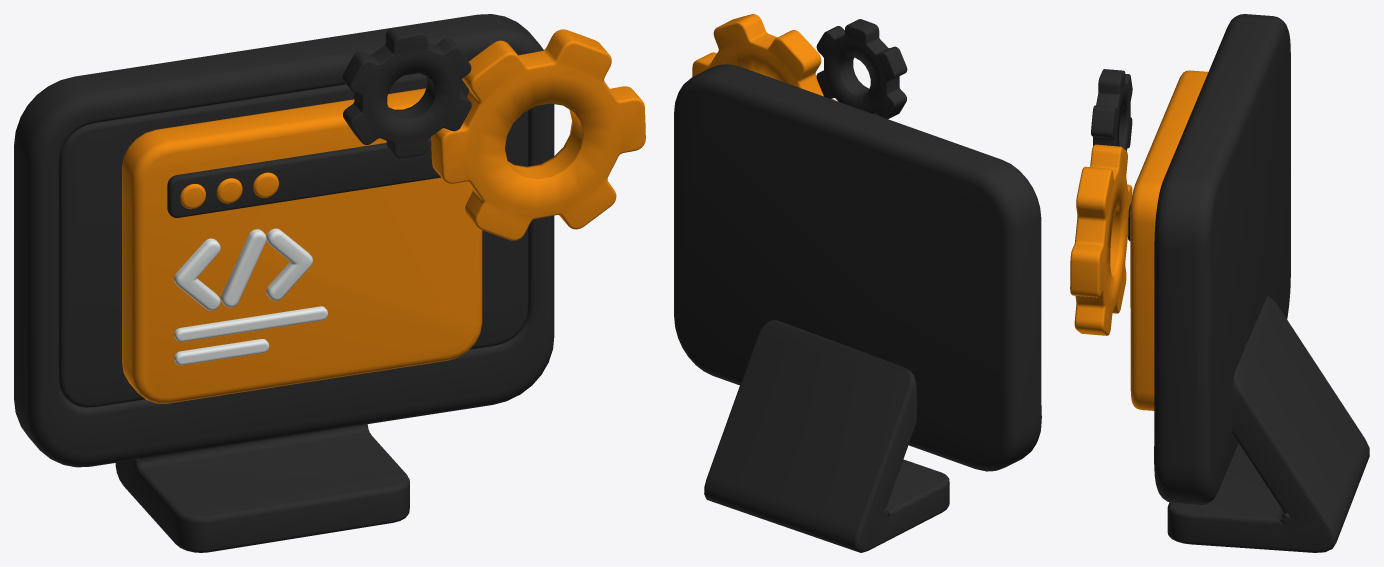
Rendered from WebConfiguration.gltf.
The picture shows the model from 3 angles, left to right: view 1: azimuth 30°, elevation 25°; view 2: azimuth 150°, elevation 25°; view 3: azimuth 270°, elevation 25°; orthographic projection. The views are drawn at different scales.
Parts seen in each view (by area): view 1: Cube.016, Cube.006, Cube.005, Cylinder.025, Cube.002, Cylinder.008, Cube.018, Cube.021, Cube.020, Cylinder.007; view 2: Cube.006, Cube.002, Cylinder.008, Cylinder.025; view 3: Cube.006, Cube.002, Cylinder.025, Cube.016, Cylinder.008.
Part boxes in pixels (x1,y1,x2,y2): Cube.016: (122,88,482,403); Cube.006: (14,14,554,467); Cube.005: (59,73,528,407); Cylinder.025: (431,29,645,240); Cube.002: (115,424,409,552); Cylinder.008: (342,24,471,158); Cube.018: (167,137,440,217); Cube.021: (174,228,312,310); Cube.020: (174,306,327,365); Cylinder.007: (180,172,278,209); Cube.006: (674,64,1041,471); Cube.002: (704,320,949,552); Cylinder.008: (816,19,907,118); Cylinder.025: (692,14,835,100); Cube.006: (1154,14,1290,504); Cube.002: (1167,296,1369,552); Cylinder.025: (1070,144,1132,335); Cube.016: (1130,70,1208,410); Cylinder.008: (1091,69,1132,150).
Size of the model in its own units: 3.88 by 3.72 by 2.23.
